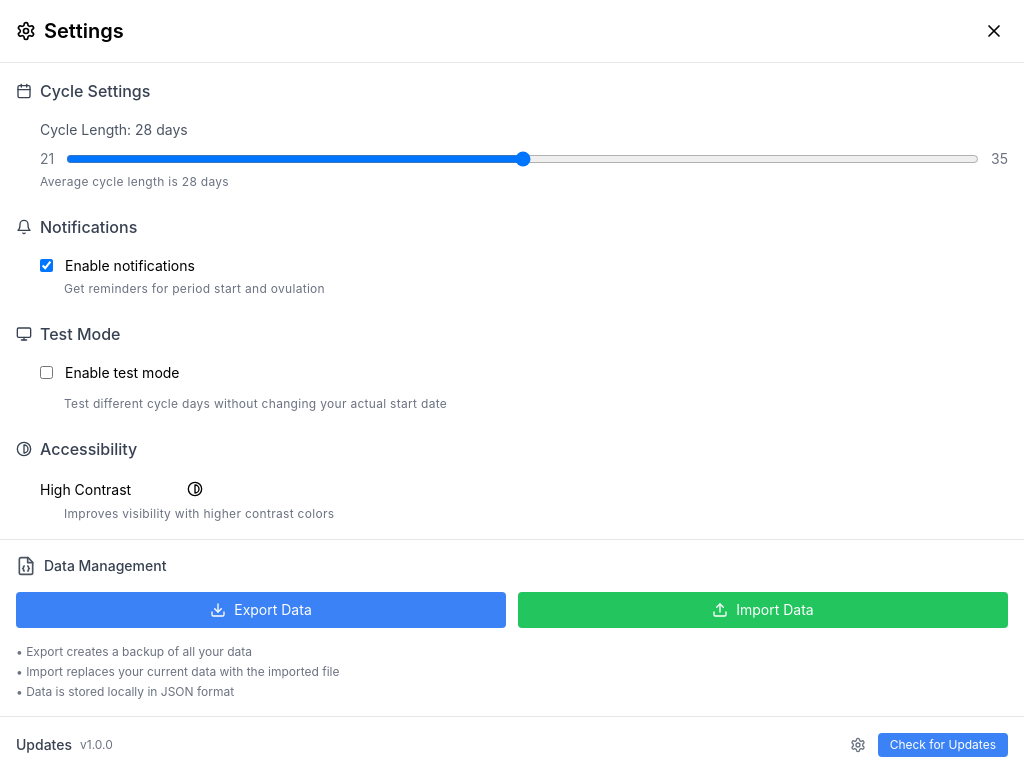
SettingsPanel › shows save button when changes are made
Make a change
Set the slider to "30" at (651, 158), box top-left (66, 150), bottom-right (979, 166)
(page scrolled)
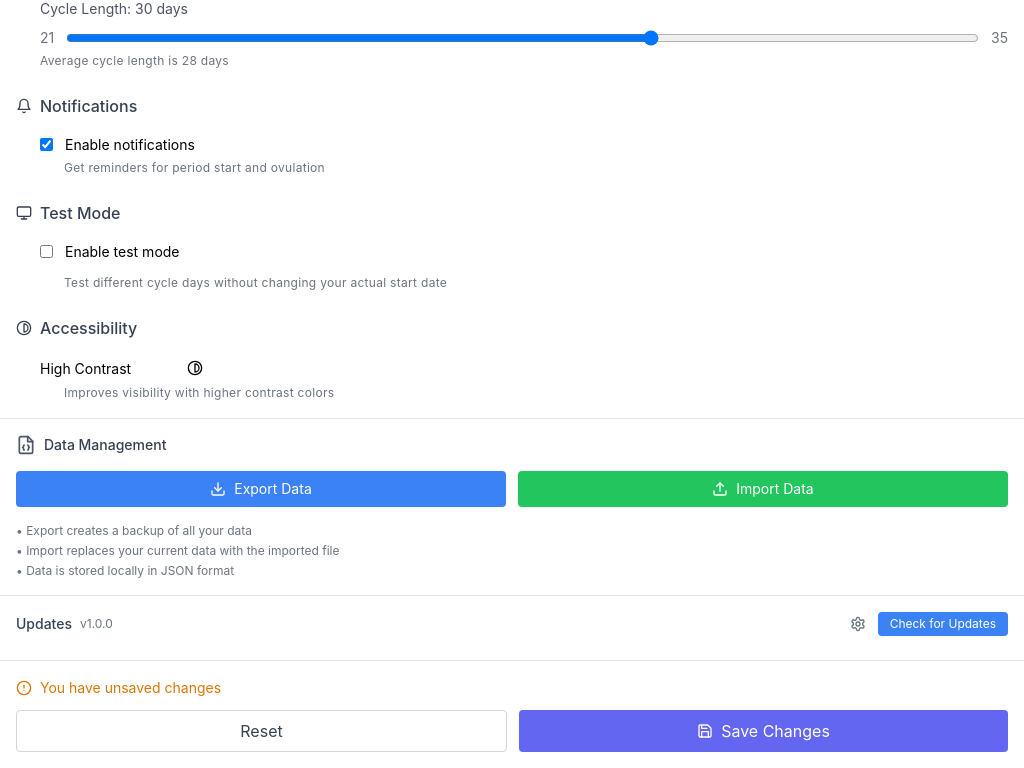
Check: the button "Save Changes" is enabled, box top-left (519, 710), bottom-right (1008, 752)
Check: the text "You have unsaved changes" is shown, box top-left (40, 677), bottom-right (221, 698)
